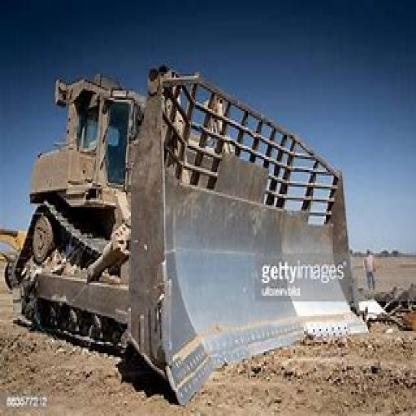bull_dozer/loader/grader: (11, 61, 373, 403)
